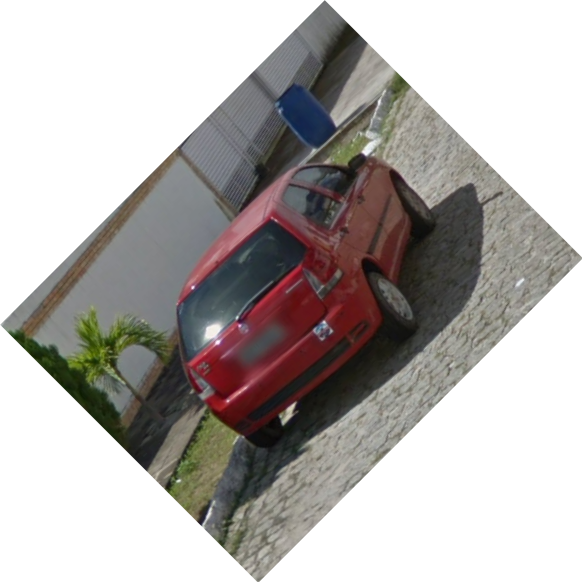car: (174, 150, 439, 454)
